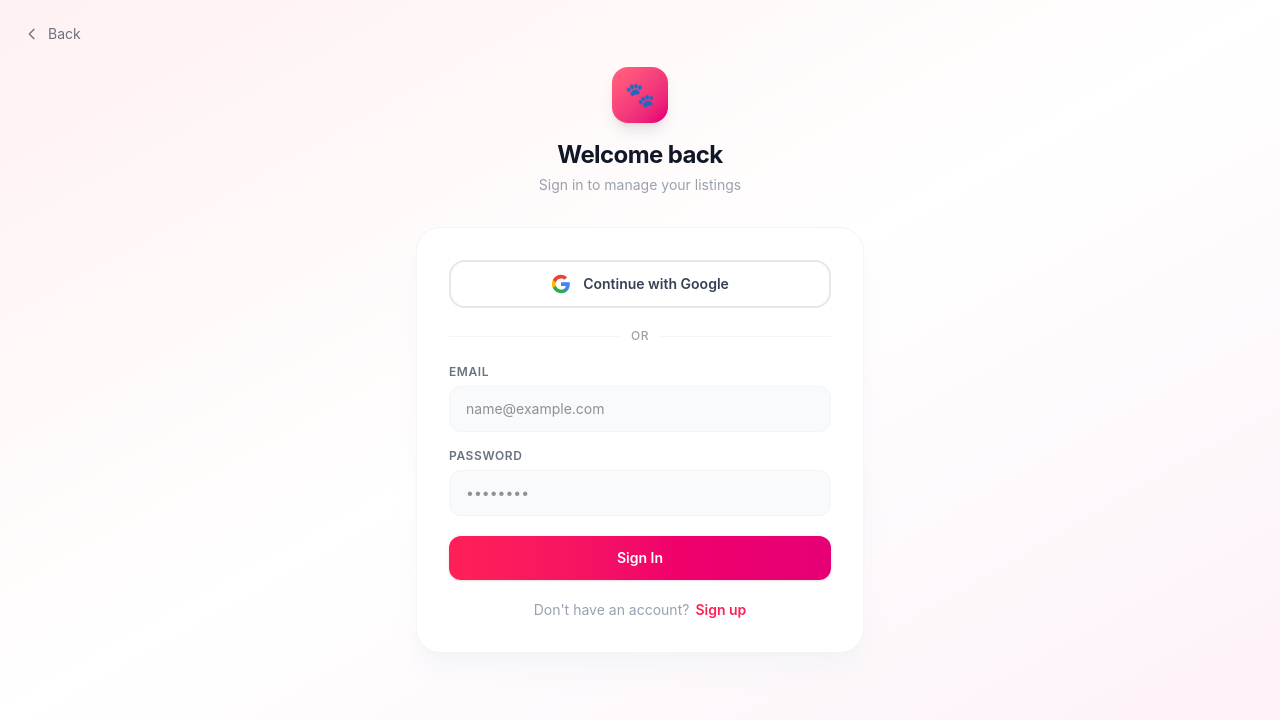
Scenario: Login Page - Error Handling › Requirement 6.4: Error State Updates › should update error state correctly when OAuth fails
Click the button with aria-label "sign in with google".
click(640, 284)  # box x1=449 y1=260 x2=831 y2=308
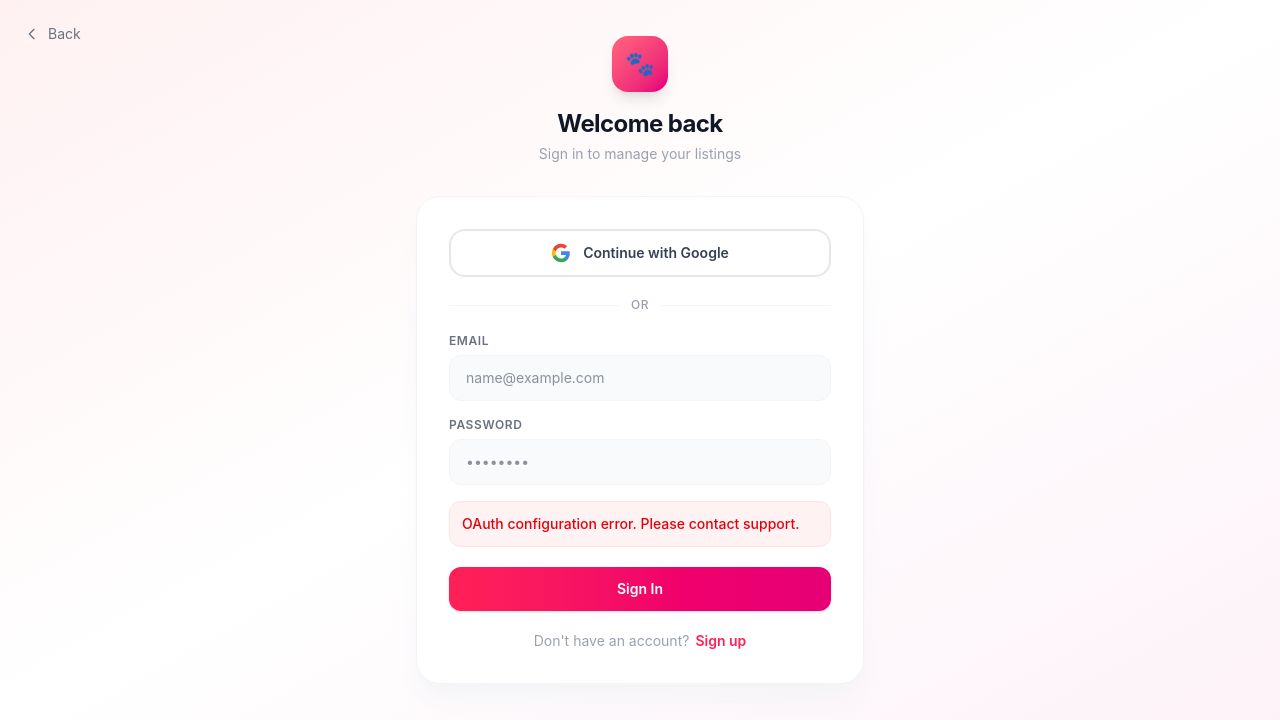
Check: the text "OAuth configuration error. Please contact support." is shown, box x1=449 y1=501 x2=831 y2=547
